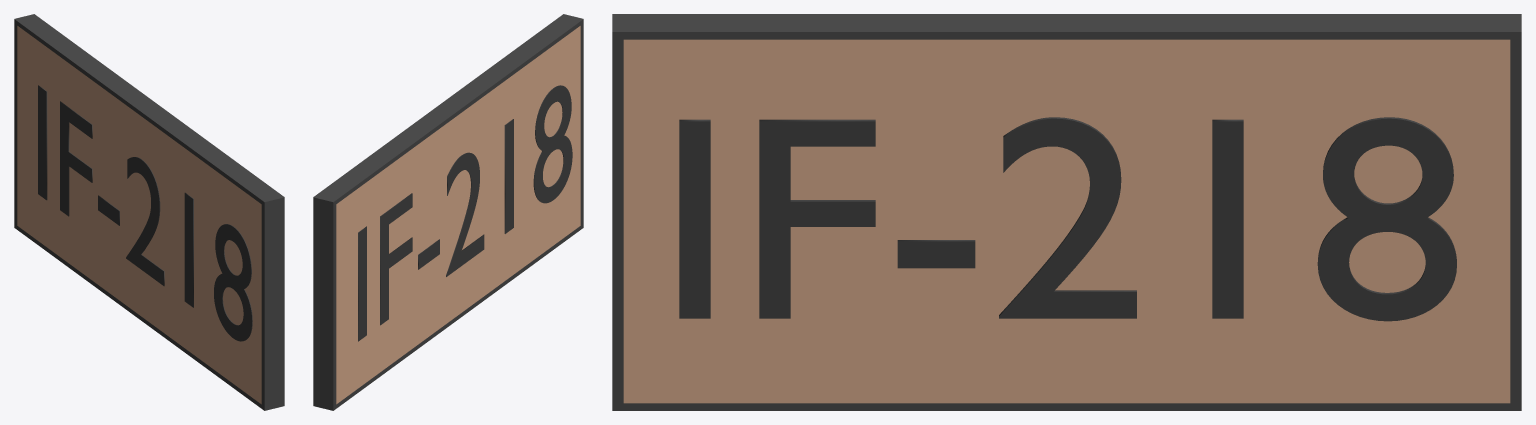
3 renders of one model, left to right at view 1: azimuth 30°, elevation 25°; view 2: azimuth 150°, elevation 25°; view 3: azimuth 270°, elevation 25°, orthographic. The views are drawn at different scales.
Visible parts, largest first — view 1: Cube, Text.001; view 2: Cube, Text.001; view 3: Cube, Text.
Boxes of the visible parts, x1,y1,x2,y2 form: Cube: [14, 14, 284, 410]; Text.001: [38, 85, 252, 341]; Cube: [313, 14, 583, 410]; Text.001: [358, 85, 572, 341]; Cube: [612, 14, 1521, 410]; Text: [679, 117, 1456, 321].
Bounding box in the file's own units: 11.55 × 102 × 222.
